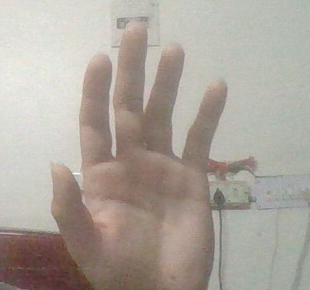move: (47, 19, 233, 290)
